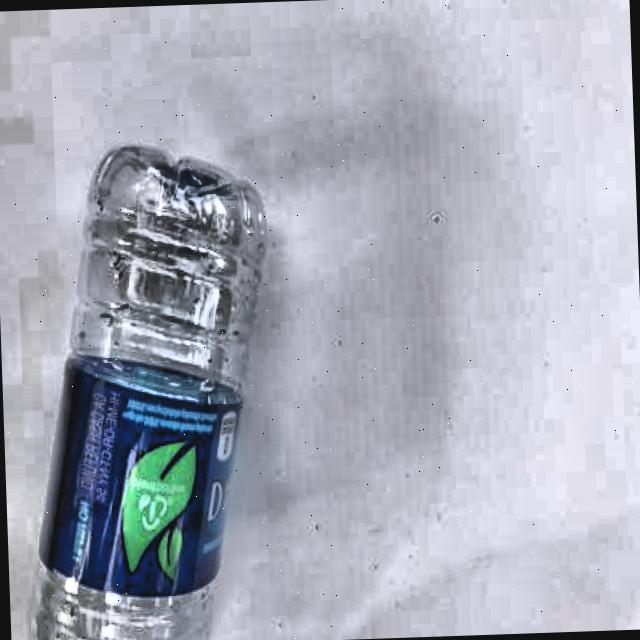plastic: (11, 140, 284, 640)
